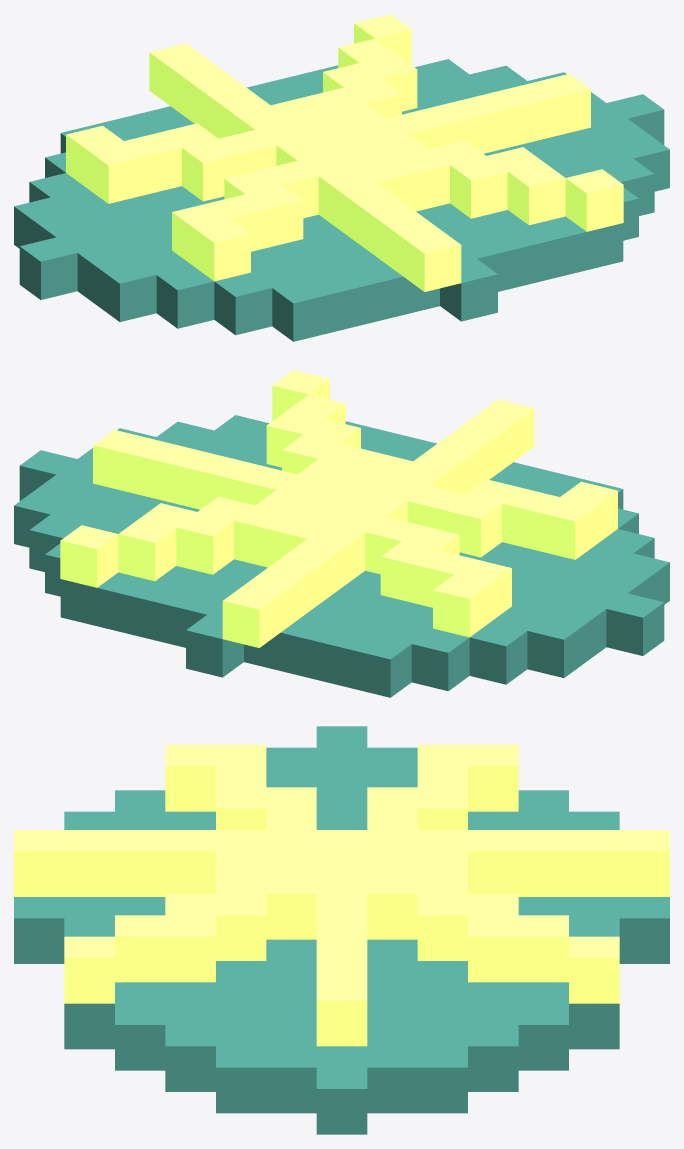
The model's file is alien-biosphere-glow-vein-mat-99c40eee__22828.glb.
The picture shows the model from 3 angles, top to bottom: view 1: azimuth 30°, elevation 25°; view 2: azimuth 150°, elevation 25°; view 3: azimuth 270°, elevation 25°; orthographic projection. The views are drawn at different scales.
Visible parts, largest first — view 1: glow-vein-mat; view 2: glow-vein-mat; view 3: glow-vein-mat.
Boxes of the visible parts, bbox=[...] form: glow-vein-mat: bbox=[14, 14, 669, 341]; glow-vein-mat: bbox=[14, 370, 669, 697]; glow-vein-mat: bbox=[14, 726, 669, 1134].
Size of the model in its own units: 2.72 by 0.48 by 2.08.
